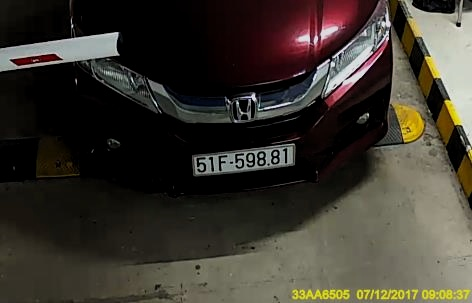plate: (190, 144, 297, 175)
